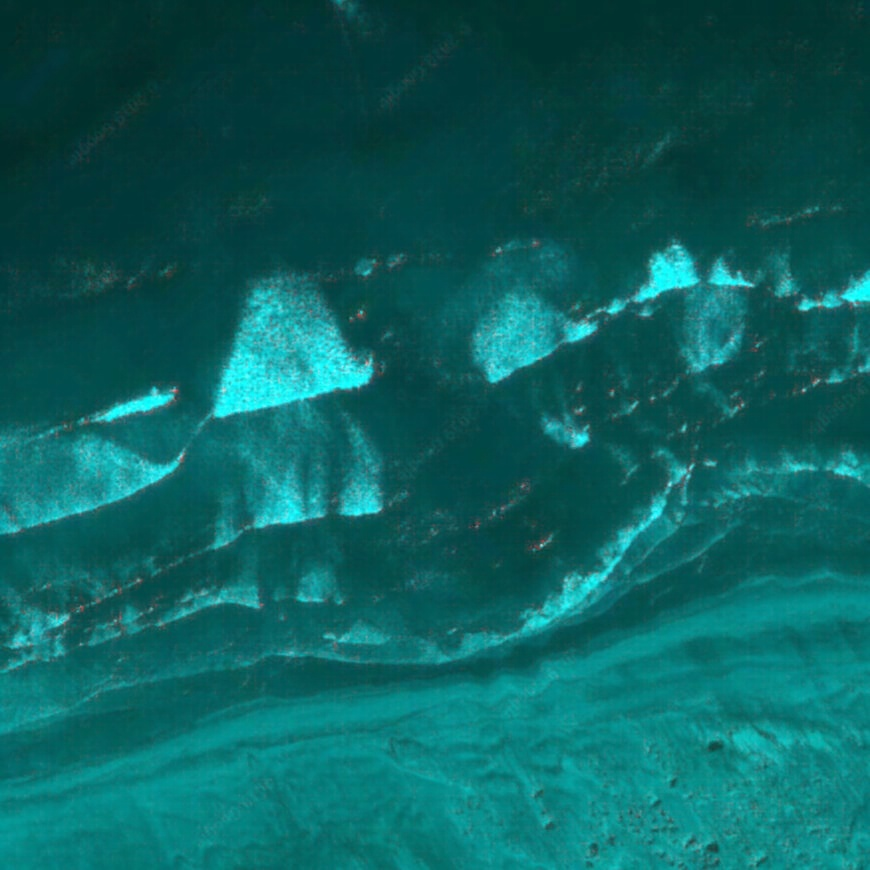rip_current: (278, 241, 615, 573)
